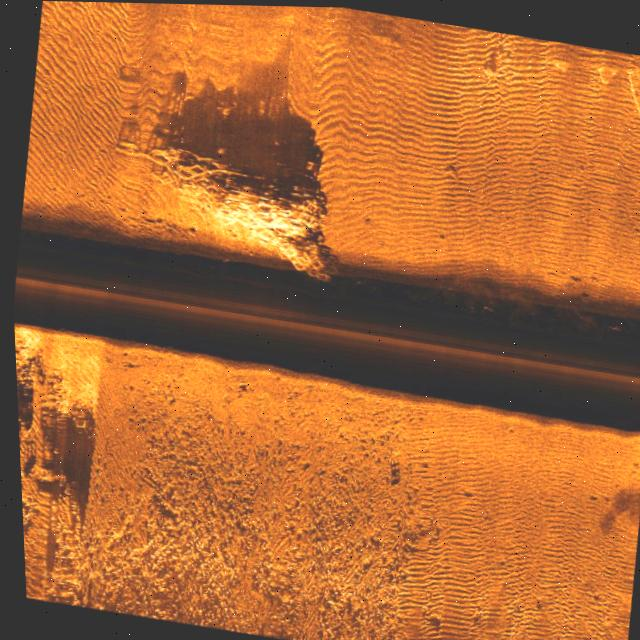artificial reef: (120, 122, 340, 275)
